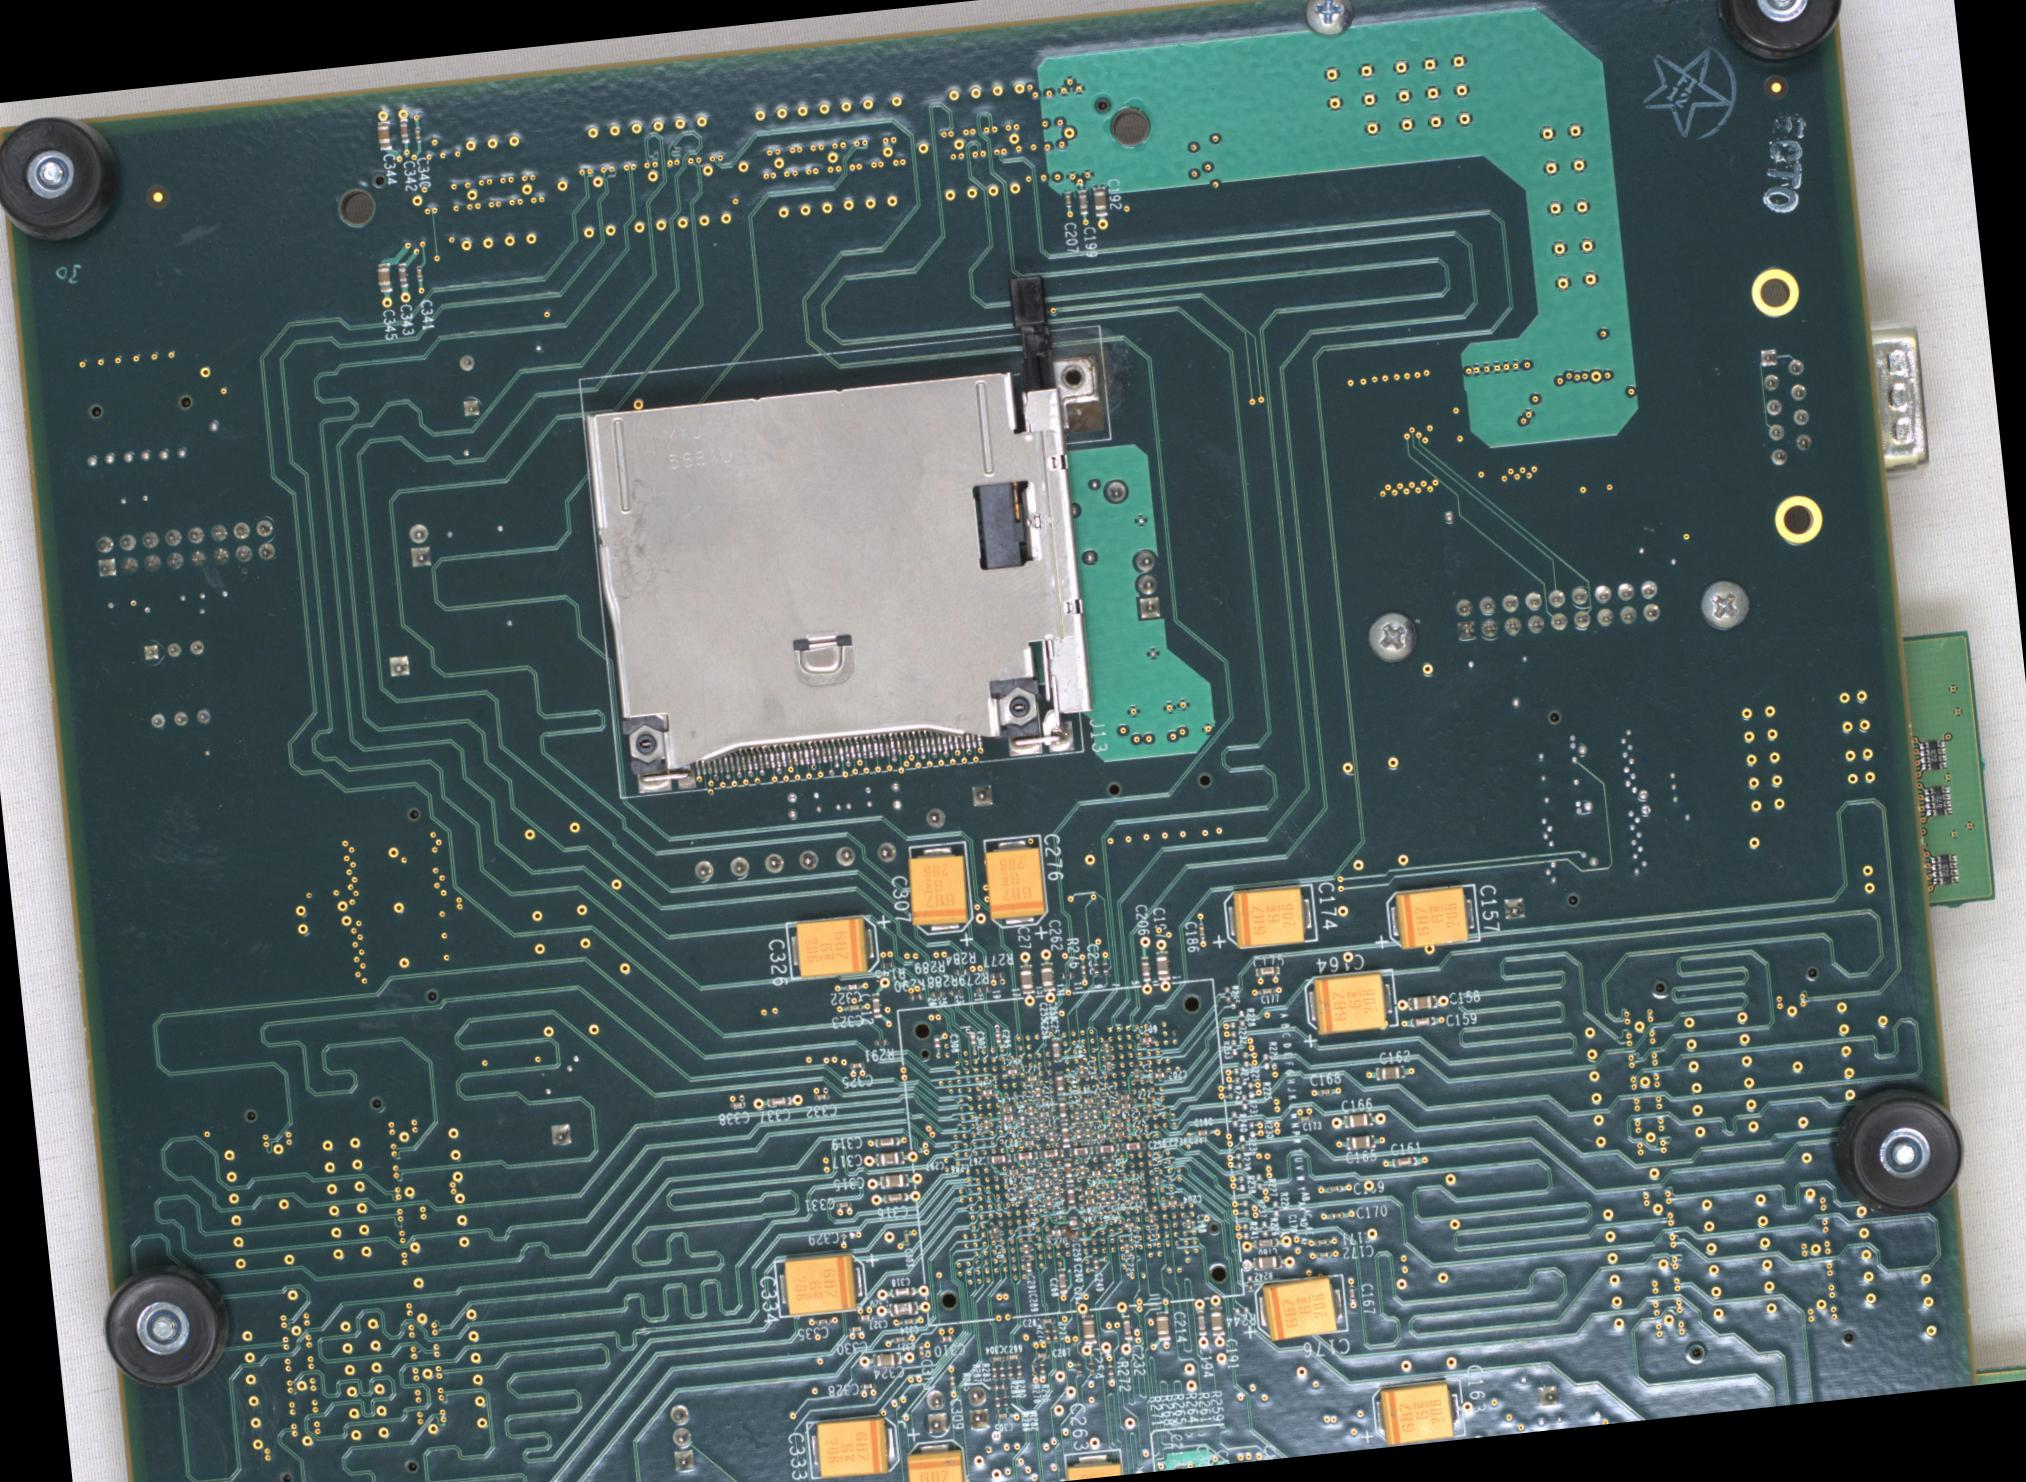Capacitor: (374, 120, 392, 149), (1153, 1309, 1170, 1339), (374, 261, 392, 291), (1342, 1111, 1373, 1126), (1208, 1304, 1224, 1336), (1406, 993, 1435, 1010), (1252, 1252, 1280, 1270), (1016, 963, 1032, 993), (1037, 961, 1052, 991), (1153, 950, 1169, 980), (1373, 1064, 1403, 1079), (1345, 1133, 1375, 1148), (1082, 1314, 1098, 1344), (875, 1150, 903, 1166), (878, 1172, 906, 1188), (889, 1300, 917, 1315), (871, 1351, 901, 1366), (1092, 186, 1106, 216), (882, 1191, 908, 1204), (1059, 1122, 1070, 1148), (1037, 1147, 1063, 1158), (396, 116, 407, 142), (1139, 955, 1150, 980), (868, 993, 879, 1018), (1254, 964, 1279, 975), (1051, 1037, 1062, 1062), (1409, 1015, 1435, 1026), (766, 1095, 791, 1106), (873, 1136, 898, 1147), (985, 1153, 1010, 1164), (1093, 1142, 1118, 1153), (1120, 1141, 1145, 1152), (1062, 1156, 1073, 1182), (1065, 1183, 1076, 1208), (1391, 1155, 1416, 1166), (889, 1285, 914, 1296), (1120, 1314, 1131, 1339), (1194, 1309, 1205, 1334), (395, 261, 406, 286), (1013, 1150, 1037, 1161), (1055, 1266, 1065, 1293), (1060, 1226, 1076, 1241), (1054, 1070, 1063, 1095), (1057, 1097, 1066, 1122), (1066, 1145, 1092, 1155), (1252, 1238, 1277, 1248), (1077, 189, 1087, 214), (986, 1226, 999, 1241), (1076, 1060, 1085, 1078), (812, 1092, 829, 1101), (1115, 1092, 1133, 1101), (1073, 1123, 1082, 1141), (1043, 1193, 1052, 1210), (915, 1340, 925, 1358), (843, 982, 859, 991), (848, 1059, 864, 1068), (978, 1087, 994, 1097), (1081, 1095, 1096, 1104), (999, 1112, 1015, 1122), (1004, 1166, 1019, 1175), (1051, 1182, 1060, 1197), (1115, 1175, 1123, 1194), (1107, 1185, 1117, 1200), (1183, 1213, 1191, 1232), (412, 124, 420, 142), (1137, 1035, 1155, 1043), (1101, 1038, 1109, 1056), (728, 1100, 746, 1108), (1022, 1073, 1040, 1081), (1131, 1064, 1139, 1081), (1033, 1082, 1041, 1100), (1026, 1101, 1033, 1119), (1098, 1093, 1106, 1111), (1033, 1109, 1051, 1117), (982, 1114, 989, 1131), (1082, 1104, 1090, 1122), (1082, 1123, 1090, 1141), (1019, 1137, 1037, 1145), (1041, 1174, 1049, 1191), (1145, 1208, 1153, 1226), (1092, 1255, 1100, 1273), (414, 263, 422, 280), (1117, 1100, 1131, 1109), (1195, 922, 1203, 938), (845, 1002, 860, 1010), (1104, 1057, 1112, 1073), (997, 1104, 1013, 1112), (1090, 1104, 1098, 1120), (1107, 1103, 1115, 1119), (1317, 1087, 1332, 1095), (1037, 1119, 1044, 1134), (1109, 1120, 1125, 1128), (1111, 1128, 1126, 1136), (1093, 1131, 1109, 1139), (1296, 1114, 1312, 1122), (1049, 1163, 1057, 1178), (1087, 1167, 1103, 1175), (1032, 1175, 1040, 1191), (835, 1200, 851, 1208), (1016, 1186, 1024, 1202), (1151, 1172, 1159, 1188), (1125, 1183, 1140, 1191), (1096, 1186, 1104, 1202), (1079, 1196, 1095, 1204), (1126, 1191, 1142, 1199), (901, 1229, 909, 1244), (1120, 1219, 1136, 1227), (1021, 1240, 1029, 1255), (1122, 1240, 1129, 1255), (1313, 1238, 1329, 1246), (1038, 1315, 1054, 1323), (1346, 1284, 1354, 1300), (1005, 1351, 1021, 1359), (859, 1381, 875, 1389), (994, 1411, 1010, 1419), (1258, 986, 1273, 994), (931, 1034, 939, 1048), (1151, 1070, 1166, 1078), (1024, 1164, 1038, 1172), (1164, 1197, 1178, 1205), (1328, 1210, 1342, 1218), (1315, 1249, 1329, 1257), (893, 1336, 908, 1344), (937, 1334, 952, 1342), (1033, 1350, 1048, 1358), (994, 1029, 1000, 1046), (969, 1030, 975, 1046), (1004, 1067, 1019, 1073), (1018, 1112, 1024, 1128), (1046, 1128, 1052, 1144), (1077, 1161, 1084, 1177), (1026, 1193, 1032, 1208), (1326, 1185, 1342, 1191), (856, 1314, 871, 1320), (846, 1325, 862, 1331), (988, 1355, 1004, 1361), (947, 1372, 953, 1388), (1063, 190, 1070, 206), (1079, 961, 1085, 975), (1073, 1106, 1079, 1120), (1145, 1100, 1151, 1114), (1027, 1122, 1033, 1136), (1194, 1128, 1208, 1134), (1104, 1159, 1111, 1174), (1081, 1188, 1095, 1194), (815, 1317, 829, 1323), (901, 1317, 915, 1323), (1048, 1229, 1060, 1233), (1026, 1260, 1030, 1273)
Connector: (576, 321, 1085, 799), (1861, 319, 1930, 485)
Electrolytic Capacitor: (1372, 1370, 1468, 1447), (901, 839, 974, 936), (1219, 881, 1318, 950), (980, 832, 1049, 928), (783, 911, 879, 980), (1252, 1273, 1348, 1342), (1383, 883, 1480, 950), (1301, 966, 1398, 1034), (804, 1411, 900, 1479), (771, 1251, 868, 1317)
Pads: (1224, 1081, 1233, 1100), (1258, 1219, 1268, 1238), (1244, 1273, 1254, 1292), (1235, 1008, 1244, 1026), (1227, 1038, 1236, 1056), (1238, 1093, 1247, 1111), (1233, 1152, 1243, 1169), (1269, 1199, 1279, 1216), (1240, 1222, 1249, 1240), (1232, 1304, 1249, 1314), (1236, 1172, 1244, 1193), (1241, 1197, 1249, 1218), (1222, 983, 1230, 1002), (1227, 1021, 1236, 1037), (1230, 1065, 1238, 1084), (1246, 1079, 1254, 1098), (1235, 1133, 1244, 1148), (1254, 1172, 1262, 1191), (1241, 1049, 1249, 1067), (1228, 1109, 1236, 1126), (1247, 1120, 1255, 1137), (1262, 1053, 1269, 1068)
Pins: (1449, 576, 1663, 643), (90, 514, 278, 579), (689, 839, 898, 886), (1752, 338, 1814, 474), (138, 636, 212, 730), (1129, 546, 1162, 620), (664, 1400, 695, 1473), (453, 351, 484, 420), (403, 518, 434, 568), (922, 1388, 947, 1435), (964, 1383, 988, 1430), (1100, 474, 1129, 505), (967, 780, 993, 809), (385, 653, 411, 680), (1501, 894, 1526, 920), (547, 1120, 573, 1147), (922, 804, 945, 829), (1534, 1381, 1557, 1406)
Resistor Jumper: (1928, 853, 1958, 886), (1919, 738, 1946, 771), (1924, 783, 1950, 815)
Resistor Network: (906, 991, 923, 1001), (952, 966, 967, 975), (991, 1381, 1007, 1391), (878, 960, 895, 968), (945, 988, 963, 996), (871, 1037, 889, 1045), (988, 971, 1004, 979), (1090, 960, 1098, 975), (974, 985, 989, 993), (1051, 1326, 1059, 1342), (989, 1364, 997, 1380), (1037, 1359, 1044, 1375), (1074, 1359, 1082, 1375), (1104, 1361, 1112, 1377), (1005, 1364, 1013, 1378), (928, 990, 944, 996), (993, 1392, 999, 1408), (1101, 960, 1107, 974), (1059, 971, 1073, 977), (1043, 1328, 1049, 1342), (1087, 1359, 1093, 1373), (1002, 1392, 1008, 1406), (1015, 1364, 1021, 1377), (999, 1364, 1004, 1378)
